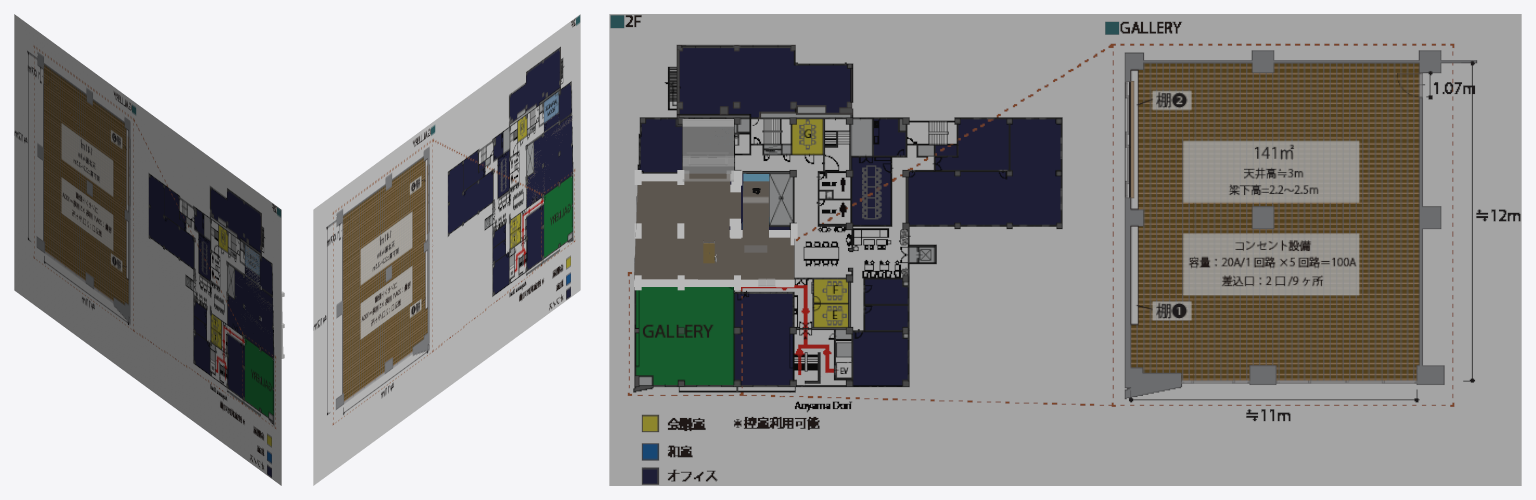
3 renders of one model, left to right at view 1: azimuth 30°, elevation 25°; view 2: azimuth 150°, elevation 25°; view 3: azimuth 270°, elevation 25°, orthographic. The views are drawn at different scales.
Visible parts, largest first — view 1: gs_floor, Zen_Floor; view 2: gs_floor; view 3: gs_floor, Floor, Zen_Floor, Kabe1, Zen_tatami, Hashira.
Boxes of the visible parts, x1,y1,x2,y2 form: gs_floor: (14,14,281,485); Zen_Floor: (245,245,259,286); gs_floor: (313,14,580,485); gs_floor: (609,14,1521,485); Floor: (634,173,794,279); Zen_Floor: (682,126,733,173); Kabe1: (634,173,794,287); Zen_tatami: (682,119,733,156); Hashira: (634,170,797,290).
Bounding box in the file's own units: 294 × 6113 × 10711.
